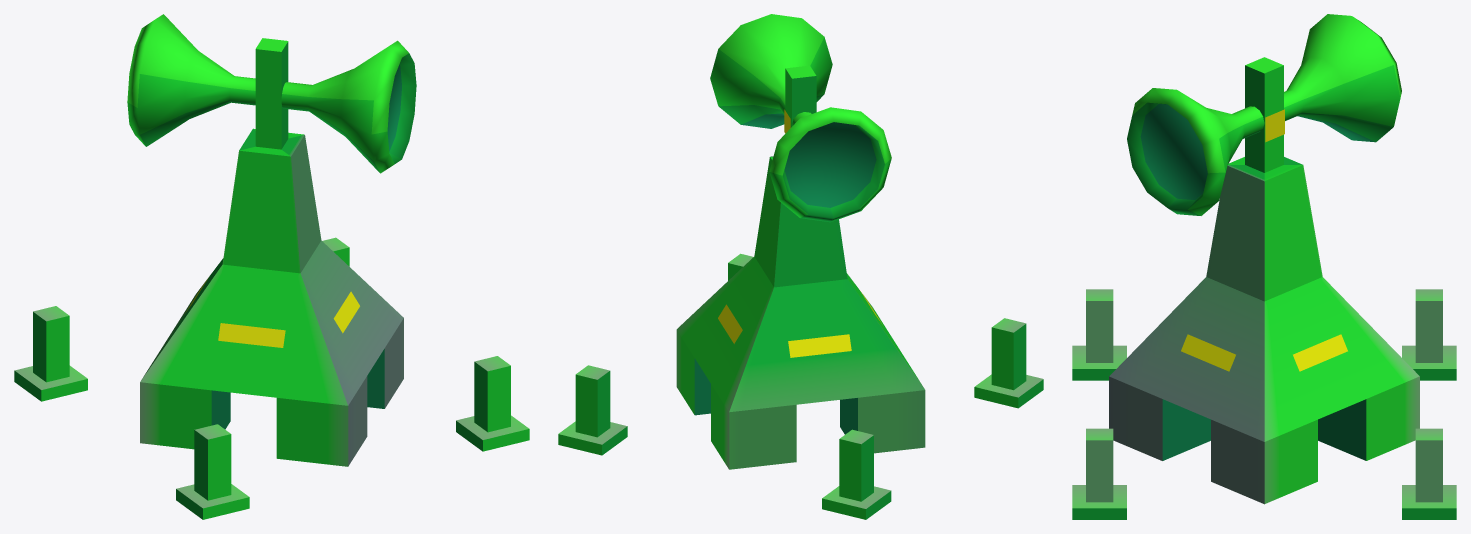
The model's file is CommTower.GreenEarth.glb.
3 views of the same model, side by side, from view 1: azimuth 30°, elevation 25°; view 2: azimuth 150°, elevation 25°; view 3: azimuth 270°, elevation 25° (orthographic). The views are drawn at different scales.
Parts seen in each view (by area): view 1: CommTower.GreenEarth; view 2: CommTower.GreenEarth; view 3: CommTower.GreenEarth.
Part boxes in pixels (x1,y1,x2,y2): CommTower.GreenEarth: (14,14,529,519); CommTower.GreenEarth: (558,14,1043,519); CommTower.GreenEarth: (1072,14,1456,519).
Bounding box in the file's own units: 2.8 × 3.1 × 2.8.
Materials: 2 (1 with a texture image).
